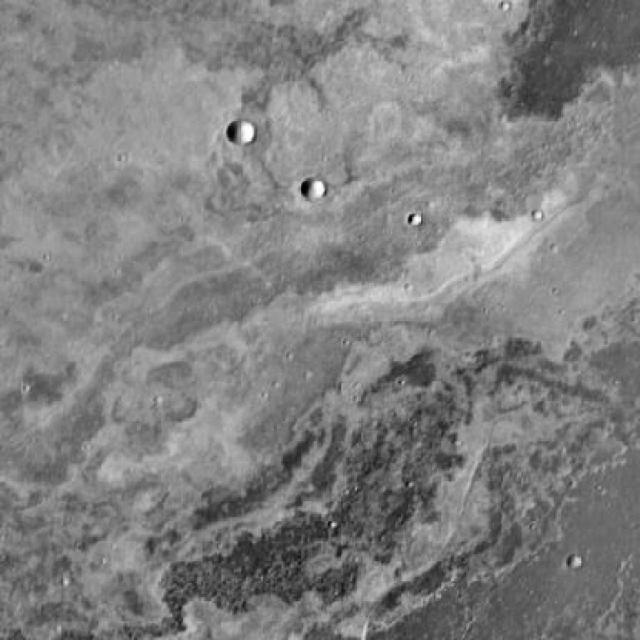crater: (246, 122, 276, 152), (320, 185, 343, 207)
